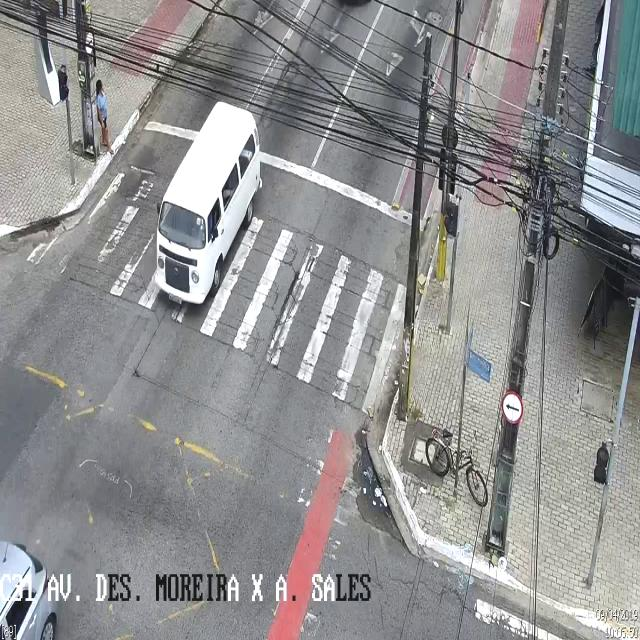Car: (155, 98, 261, 305), (0, 519, 79, 640)
